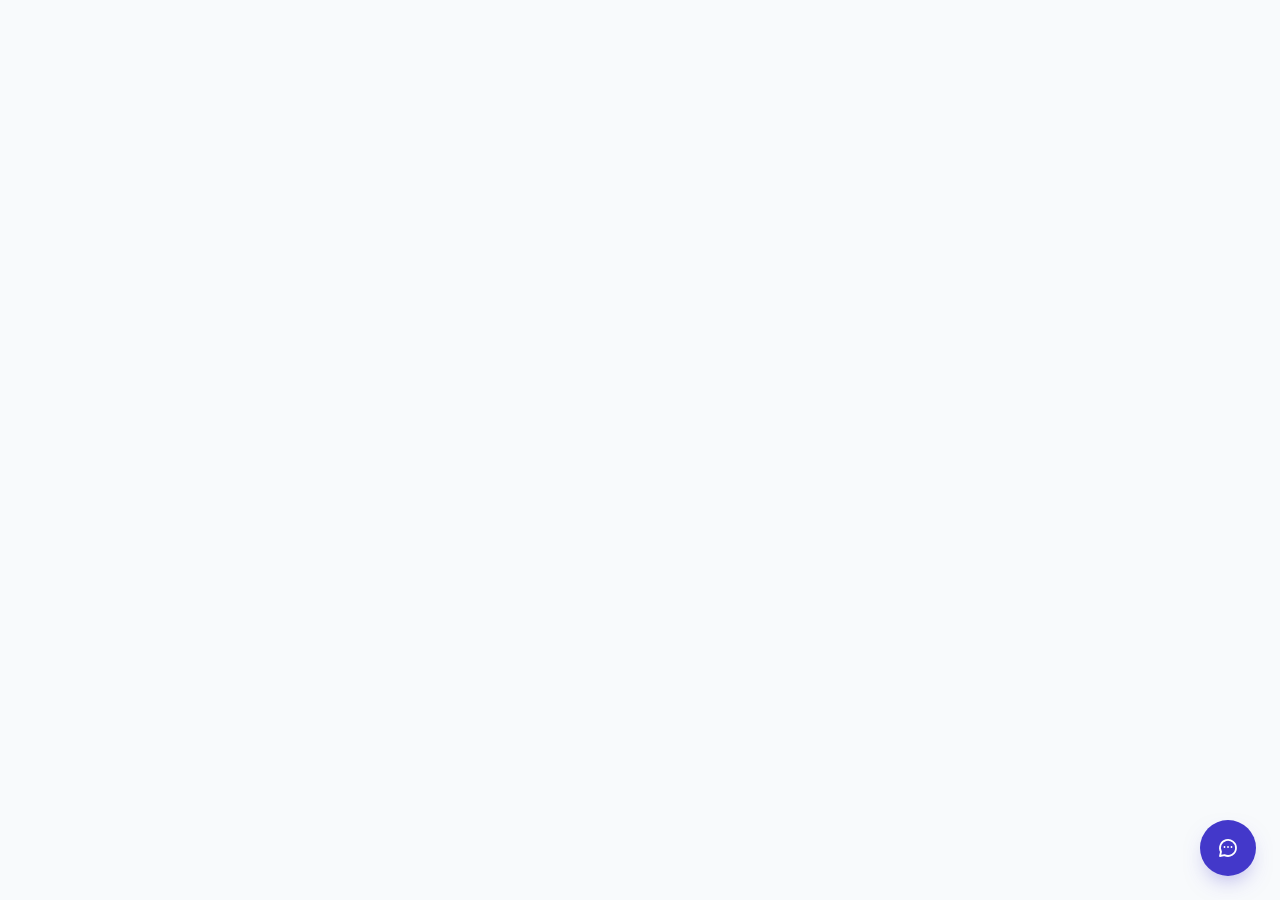
opens with a welcome, suggestions and focus in the question box
Click the button named "Ask PortfolioAI about Irfan's work" at coordinates (1228, 848), box [1200,820,1256,876]
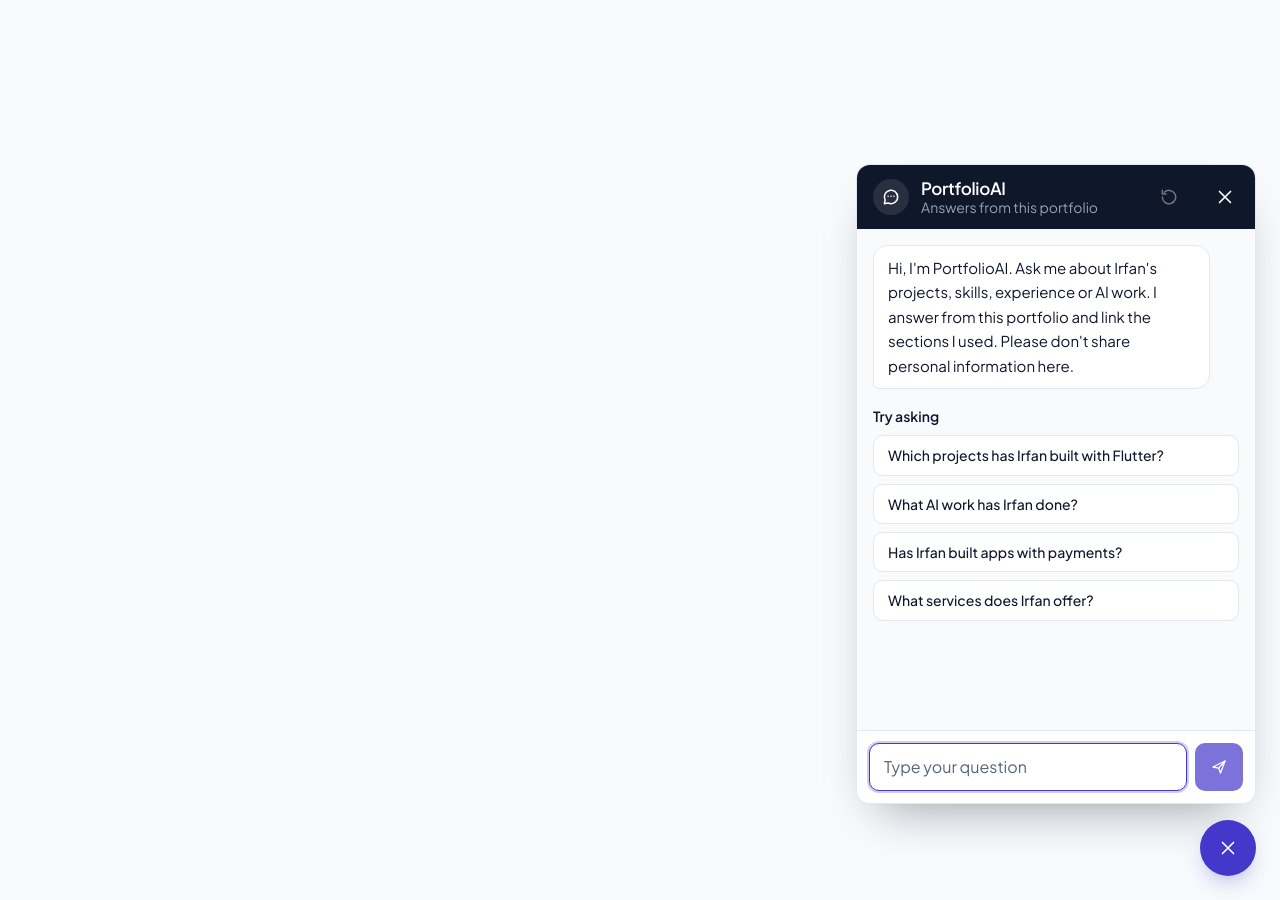
Result: the text "Hi, I'm PortfolioAI. Ask me about Irfan's projects, skills, experience or AI work. I answer from this portfolio and link" is shown at [888,258,1160,374]
Result: the button "Which projects has Irfan built with Flutter?" is shown at [873,435,1239,476]
Result: the button "What AI work has Irfan done?" is shown at [873,484,1239,524]
